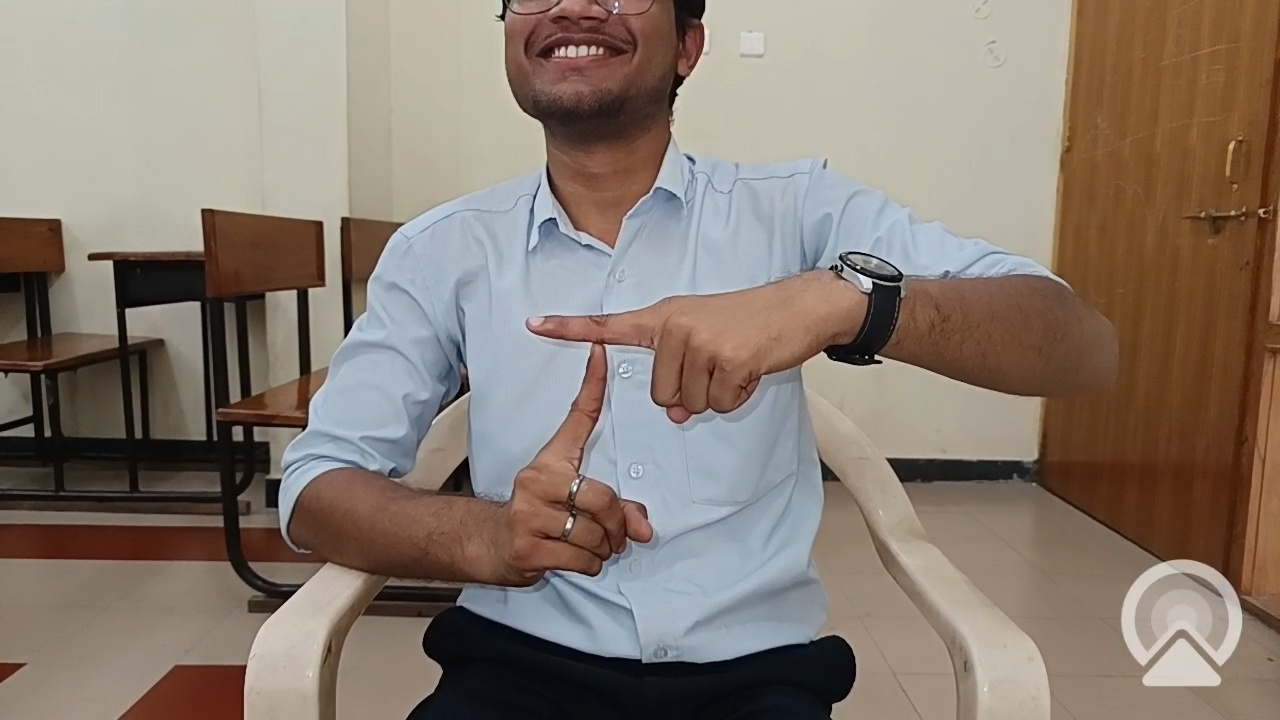T: (379, 234, 807, 633)
